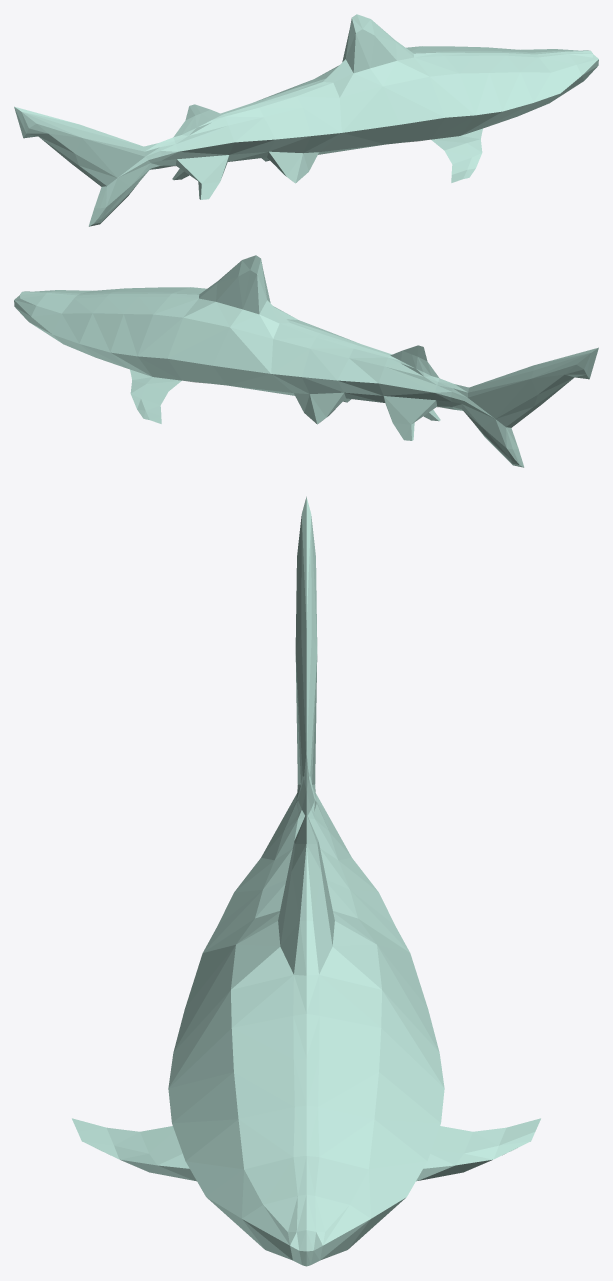
Rendered from shark.fbx.
3 views of the same model, one above another, from view 1: azimuth 30°, elevation 25°; view 2: azimuth 150°, elevation 25°; view 3: azimuth 270°, elevation 25° (orthographic). The views are drawn at different scales.
Visible parts, largest first — view 1: shark; view 2: shark; view 3: shark.
Boxes of the visible parts, bbox=[...] form: shark: bbox=[14, 14, 598, 226]; shark: bbox=[14, 255, 598, 467]; shark: bbox=[72, 496, 540, 1266].
Size of the model in its own units: 806 by 195 by 282.
